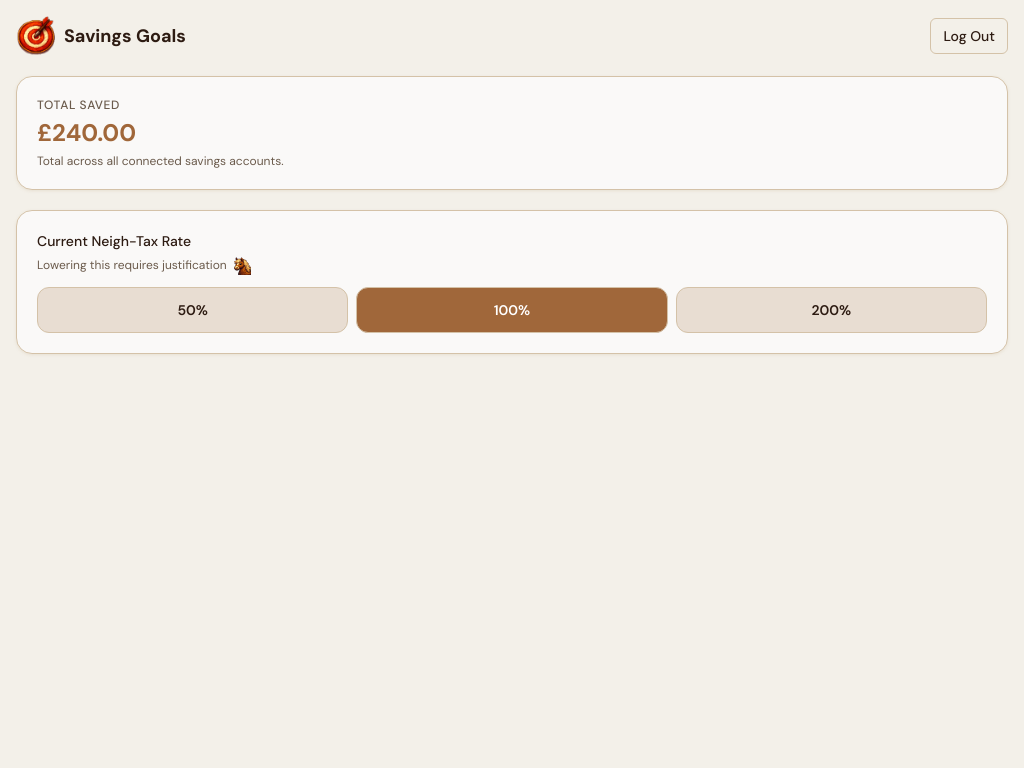
Test: GoalsTab › modal Cancel button closes the modal
Click the button "50%".
click(193, 310)  # box 37,287 -> 348,333
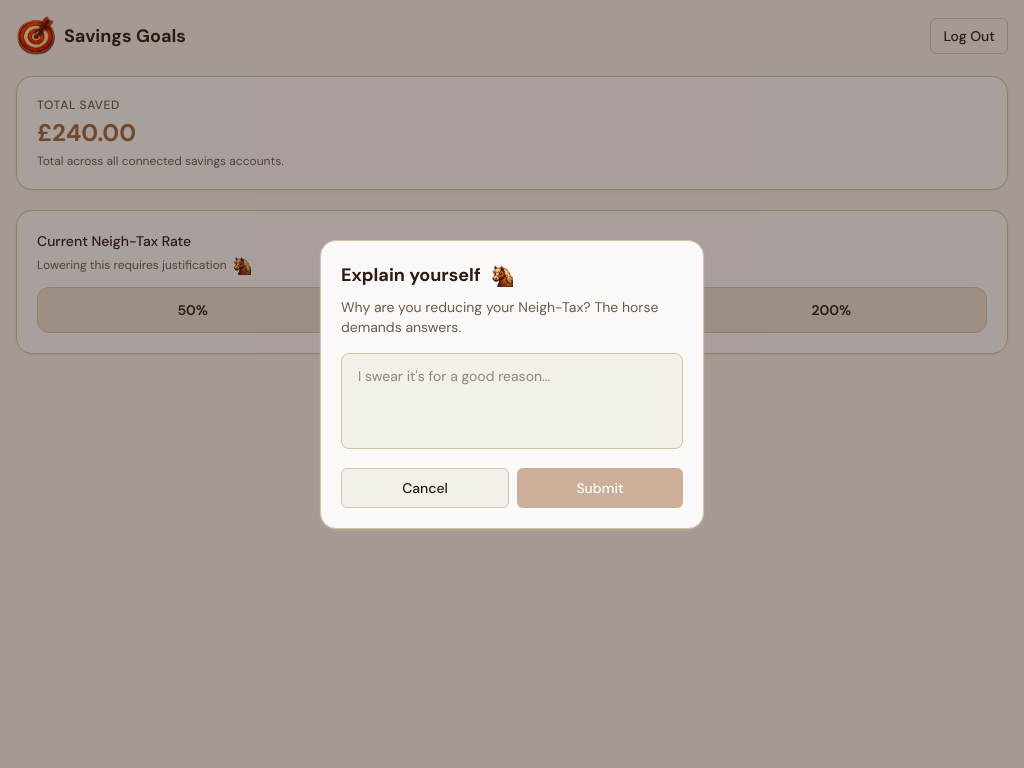
Check: the heading "Explain yourself" is shown, box 341,260 -> 481,288
Click the button "Cancel".
click(425, 488)  # box 341,468 -> 509,508
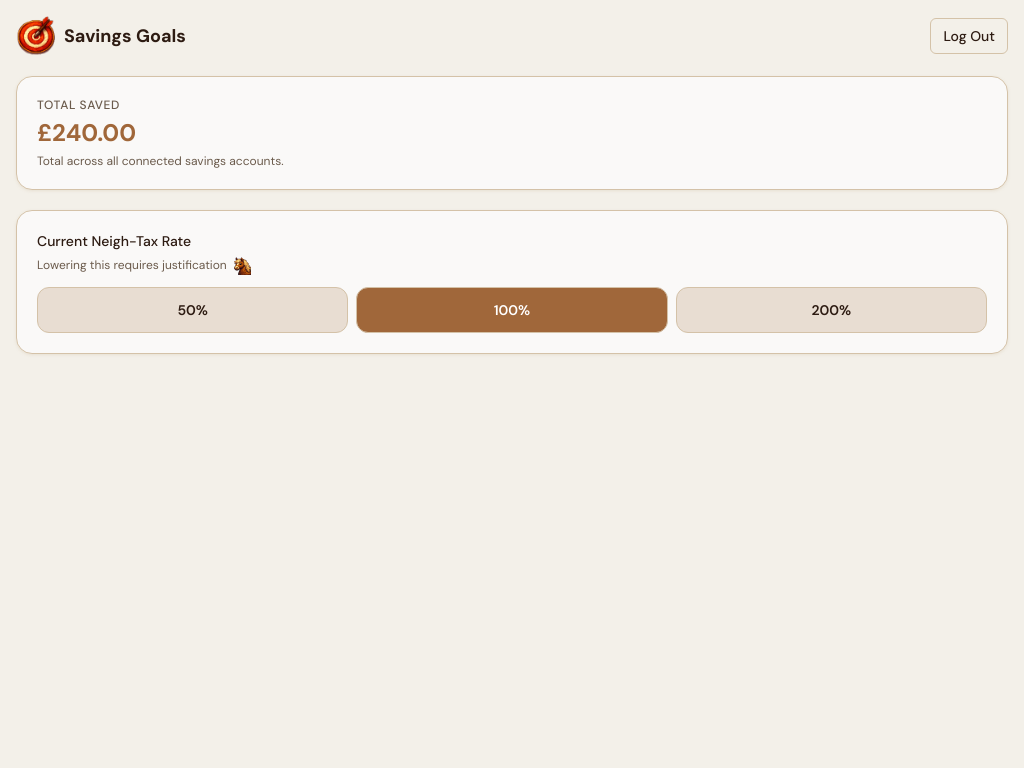
Check: the heading "Explain yourself" is gone
